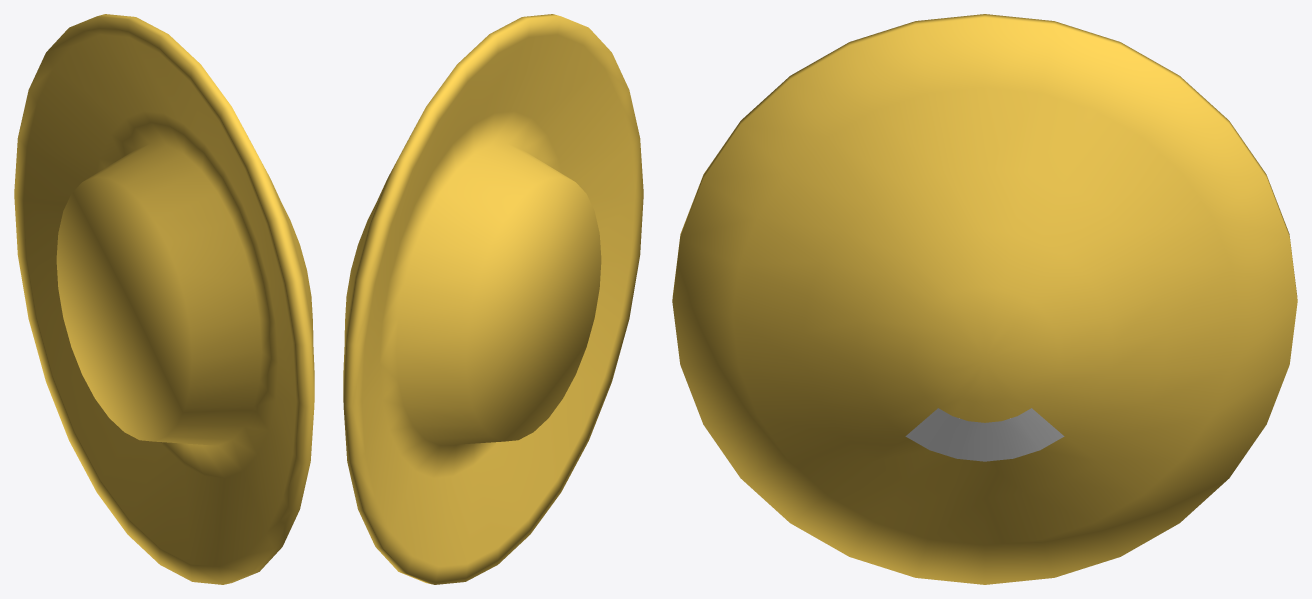
File: CassiniHuygensAwithout_Cassini.glb
3 views of the same model, side by side, from view 1: azimuth 30°, elevation 25°; view 2: azimuth 150°, elevation 25°; view 3: azimuth 270°, elevation 25° (orthographic). The views are drawn at different scales.
Parts seen in each view (by area): view 1: foil_gold_h; view 2: foil_gold_h; view 3: foil_gold_h, huygens_strip.
Boxes of the visible parts, <box> form: foil_gold_h: <box>14,14,314,584</box>; foil_gold_h: <box>343,14,643,584</box>; foil_gold_h: <box>672,14,1297,584</box>; huygens_strip: <box>905,408,1064,461</box>.
Size of the model in its own units: 0.8057 by 2.62 by 2.62.
2 materials, 1 textured.
